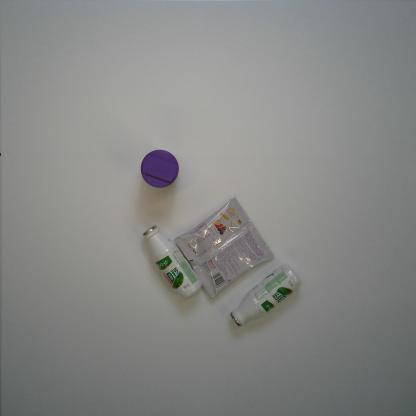Canned Food: (140, 148, 180, 190)
Instant Drink: (174, 196, 275, 299)
Milk: (229, 263, 302, 327), (142, 224, 203, 299)
